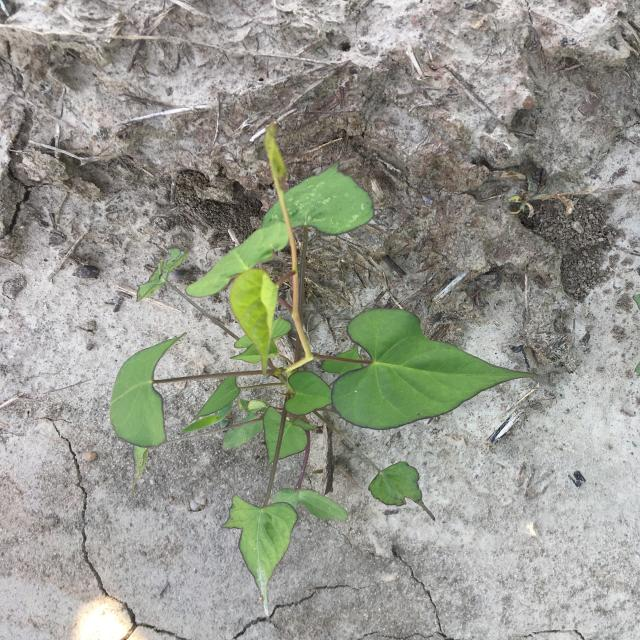MorningGlory: (110, 117, 548, 618)
